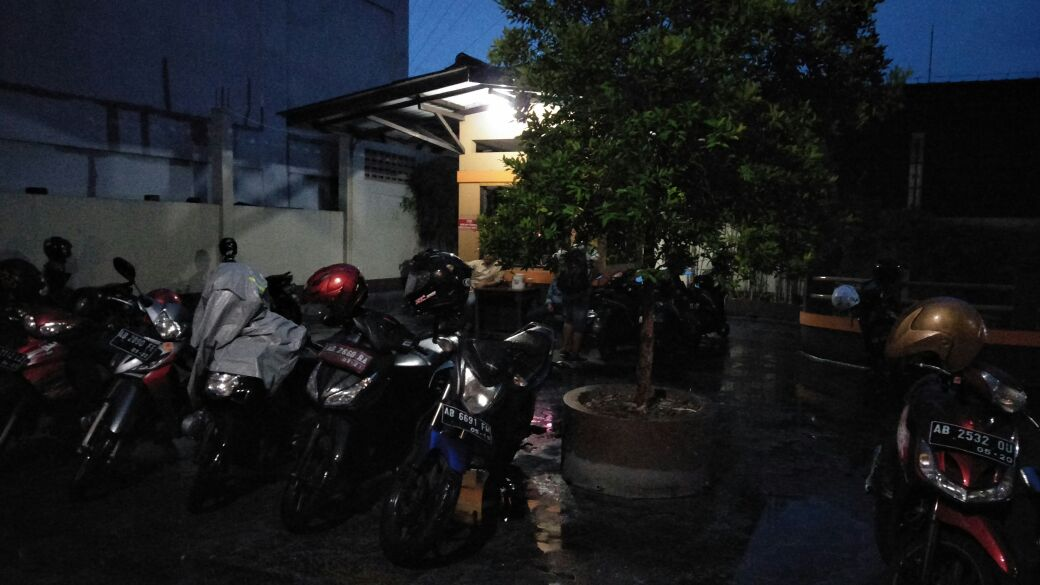plate: (928, 418, 1017, 465), (440, 402, 493, 440), (322, 339, 371, 374), (112, 327, 158, 360)
